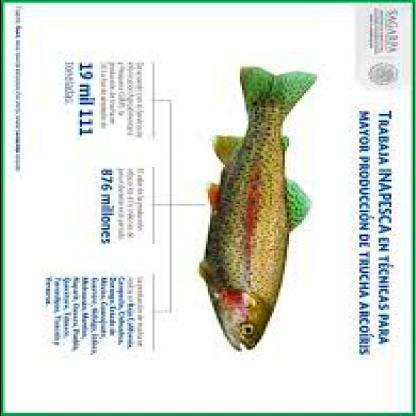fish: (197, 63, 321, 353)
